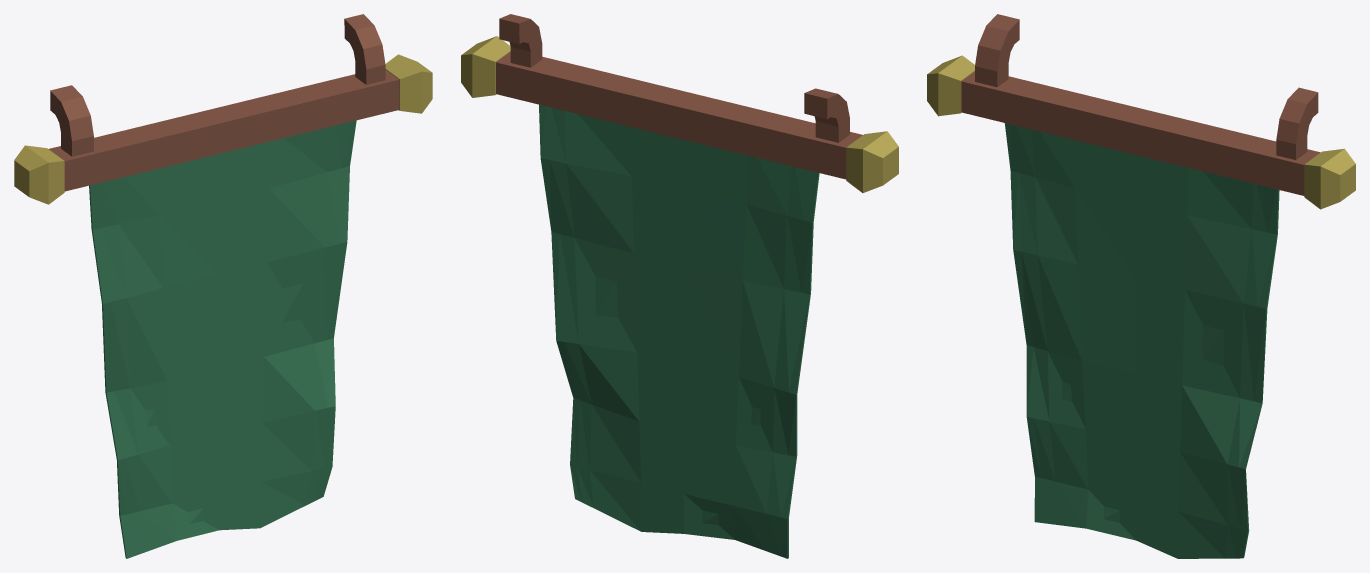
The model's file is tapestry.fbx.
3 views of the same model, side by side, from view 1: azimuth 30°, elevation 25°; view 2: azimuth 150°, elevation 25°; view 3: azimuth 330°, elevation 25° (orthographic). The views are drawn at different scales.
Parts seen in each view (by area): view 1: pCube1; view 2: pCube1; view 3: pCube1.
Part boxes in pixels (<box>): pCube1: <box>14,14,432,558</box>; pCube1: <box>461,14,898,558</box>; pCube1: <box>927,14,1355,558</box>.
Size of the model in its own units: 96.24 by 108 by 11.63.
